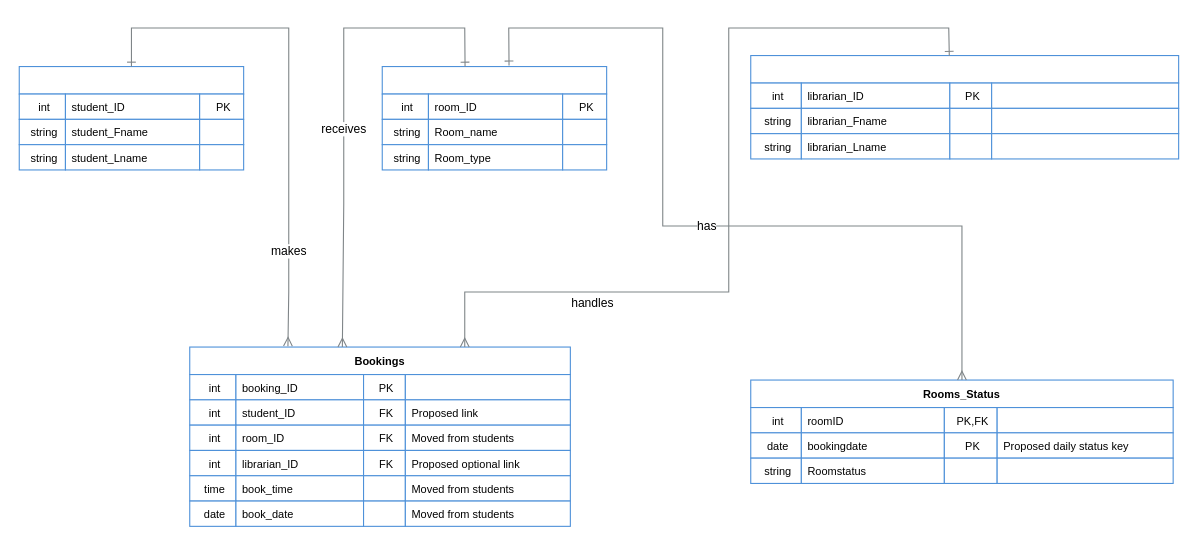
The diagram is 1198 pixels wide and 546 high, and some of its shapes have lost their labels. The box of each missing label's shape, as (x1, y1, x2, y2) in pixels:
Librarians: (750, 54, 1179, 83)
Rooms: (381, 65, 607, 94)
Students: (18, 65, 244, 94)
